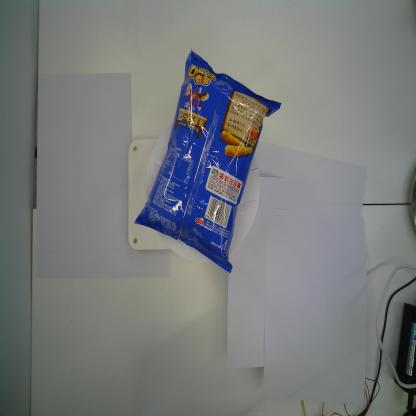Puffed Food: (133, 46, 283, 274)
